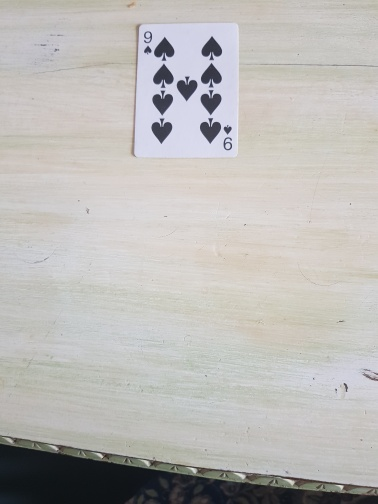nine: (135, 24, 241, 158)
